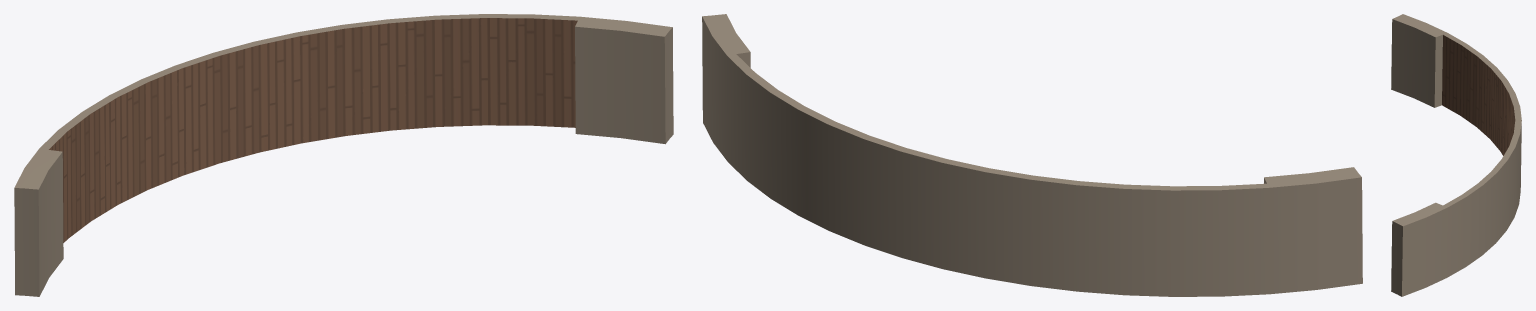
Rendered from menu_horizontal_bg.glb.
3 renders of one model, left to right at view 1: azimuth 30°, elevation 25°; view 2: azimuth 150°, elevation 25°; view 3: azimuth 270°, elevation 25°, orthographic. The views are drawn at different scales.
Parts seen in each view (by area): view 1: menu_bg_panel; view 2: menu_bg_panel; view 3: menu_bg_panel.
Part boxes in pixels (x1,y1,x2,y2): menu_bg_panel: [14, 14, 673, 296]; menu_bg_panel: [702, 14, 1362, 296]; menu_bg_panel: [1391, 14, 1521, 296].
Size of the model in its own units: 25.4 by 3.95 by 6.61.
2 materials, 2 textured.
